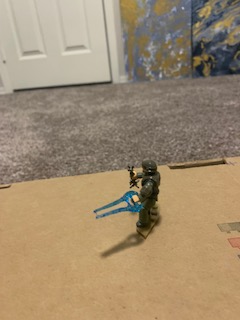soldier: (93, 157, 164, 230)
